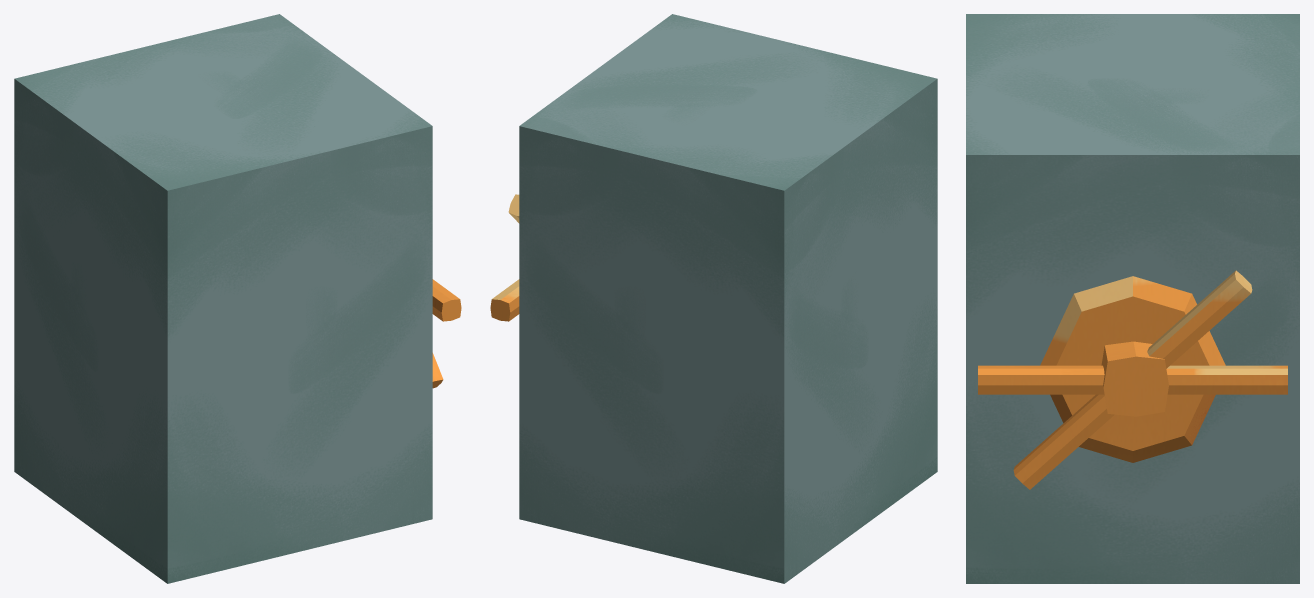
File: coffer.glb
The picture shows the model from 3 angles, left to right: view 1: azimuth 30°, elevation 25°; view 2: azimuth 150°, elevation 25°; view 3: azimuth 270°, elevation 25°; orthographic projection. The views are drawn at different scales.
Parts seen in each view (by area): view 1: cofre; view 2: cofre; view 3: cofre.
Boxes of the visible parts, x1,y1,x2,y2 form: cofre: (14,14,461,583); cofre: (490,14,937,583); cofre: (966,14,1299,583).
Size of the model in its own units: 0.9649 by 1.19 by 0.8409.
1 material, 1 textured.
